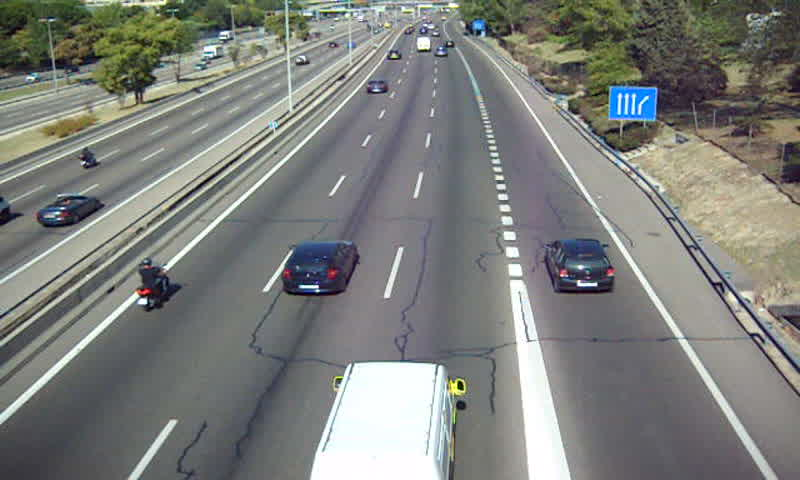car: (282, 241, 355, 293), (546, 239, 614, 293), (364, 78, 389, 97)
motorcycle: (134, 258, 172, 314)
van: (310, 362, 458, 480)
